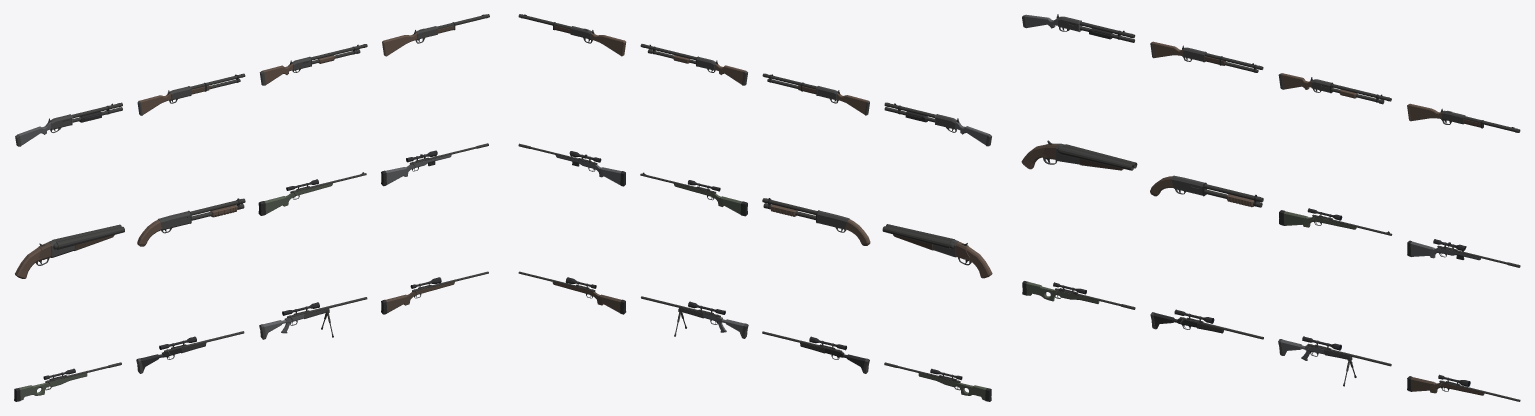
The picture shows the model from 3 angles, left to right: view 1: azimuth 30°, elevation 25°; view 2: azimuth 150°, elevation 25°; view 3: azimuth 330°, elevation 25°; orthographic projection. The views are drawn at different scales.
Parts seen in each view (by area): view 1: m4, m5, m0, m1, m2, m10, m3, m8, m7, m6, m11, m9; view 2: m4, m5, m0, m1, m2, m10, m3, m8, m7, m6, m11, m9; view 3: m4, m5, m0, m1, m2, m10, m3, m8, m7, m6, m11, m9.
Part boxes in pixels (box(x1,y1,x2,y2)): m4: box(15, 224, 124, 278); m5: box(137, 198, 245, 246); m0: box(15, 102, 122, 146); m1: box(137, 73, 245, 115); m2: box(259, 44, 367, 85); m10: box(259, 297, 367, 339); m3: box(382, 14, 489, 56); m8: box(14, 362, 121, 401); m7: box(381, 143, 488, 186); m6: box(258, 172, 366, 215); m11: box(381, 271, 488, 314); m9: box(136, 331, 244, 373); m4: box(882, 224, 992, 278); m5: box(762, 198, 870, 245); m0: box(884, 102, 991, 146); m1: box(762, 73, 869, 115); m2: box(640, 44, 747, 85); m10: box(641, 296, 748, 338); m3: box(518, 14, 626, 56); m8: box(884, 362, 991, 401); m7: box(518, 143, 625, 186); m6: box(640, 172, 747, 216); m11: box(518, 271, 626, 314); m9: box(762, 331, 869, 373); m4: box(1021, 140, 1137, 170); m5: box(1150, 175, 1263, 207); m0: box(1022, 14, 1135, 42); m1: box(1150, 41, 1263, 72); m2: box(1278, 73, 1391, 104); m10: box(1278, 336, 1391, 386); m3: box(1407, 103, 1520, 132); m8: box(1022, 281, 1135, 309); m7: box(1407, 239, 1520, 267); m6: box(1279, 208, 1392, 235); m11: box(1407, 374, 1520, 401); m9: box(1150, 309, 1263, 339).
Bounding box in the file's own units: 4.45 × 2.54 × 0.197.
